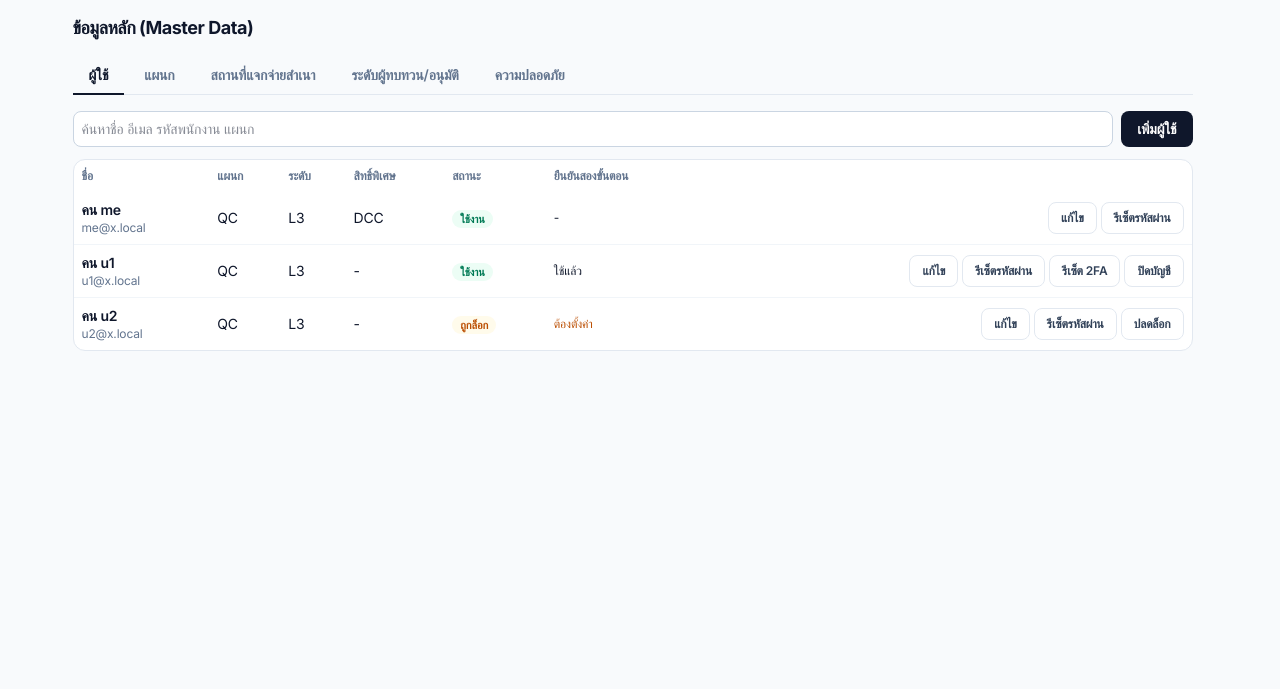
API master data page › creates a user and shows the one-time password
Click the button "เพิ่มผู้ใช้" at coordinates (1157, 129), box x1=1121 y1=111 x2=1192 y2=147
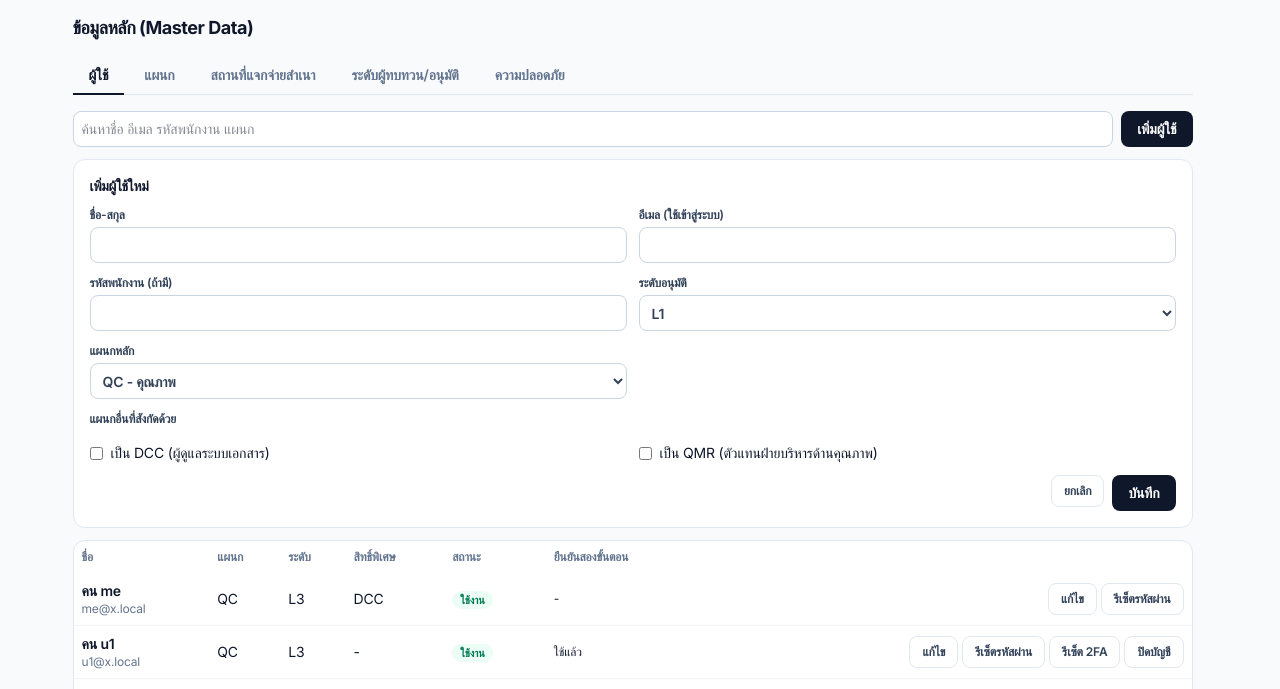
Type "สมศรี" into the field labelled "ชื่อ-สกุล" at coordinates (358, 245), box x1=90 y1=227 x2=626 y2=263
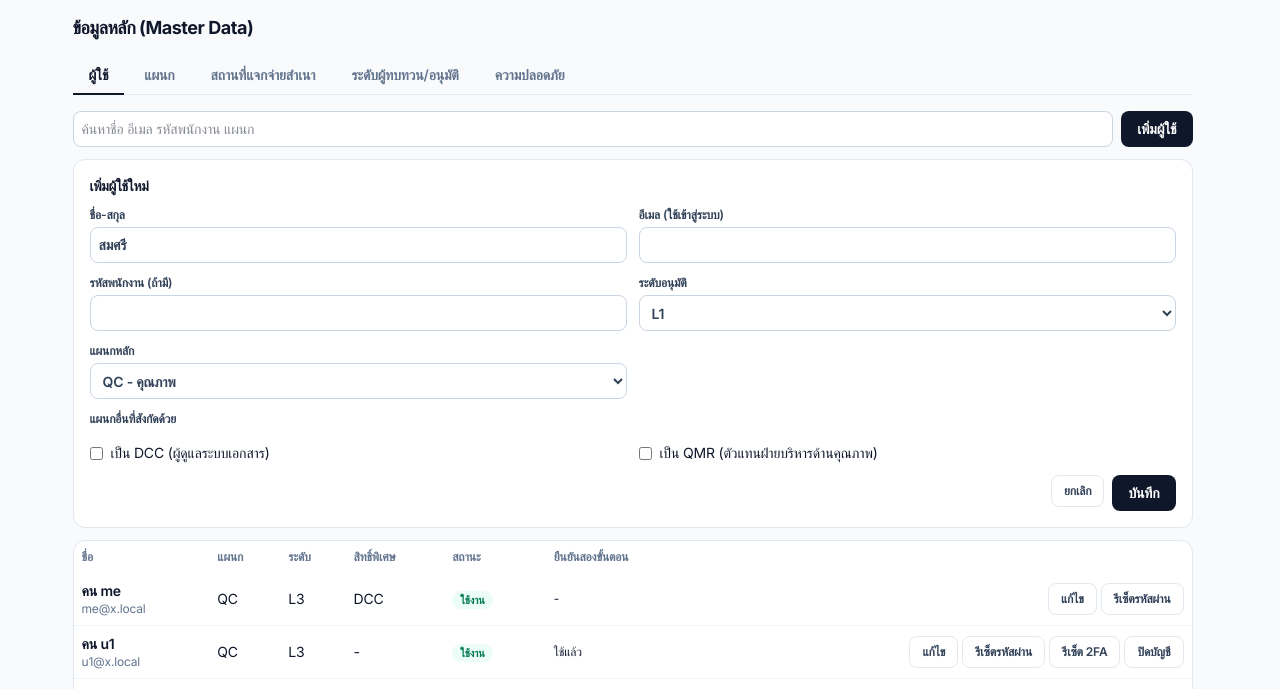
Type " Som@X.local " into the field labelled "อีเมล (ใช้เข้าสู่ระบบ)" at coordinates (907, 245), box x1=638 y1=227 x2=1176 y2=263
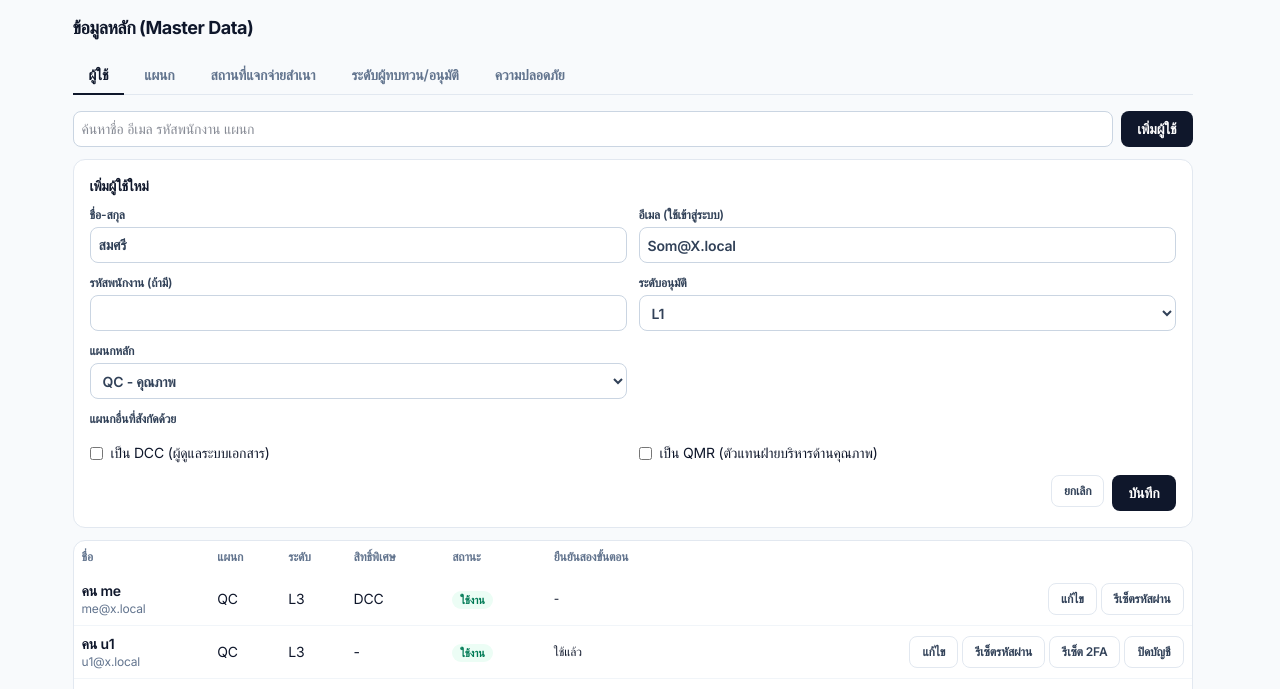
Click the button "บันทึก" at coordinates (1144, 493), box x1=1112 y1=475 x2=1176 y2=511
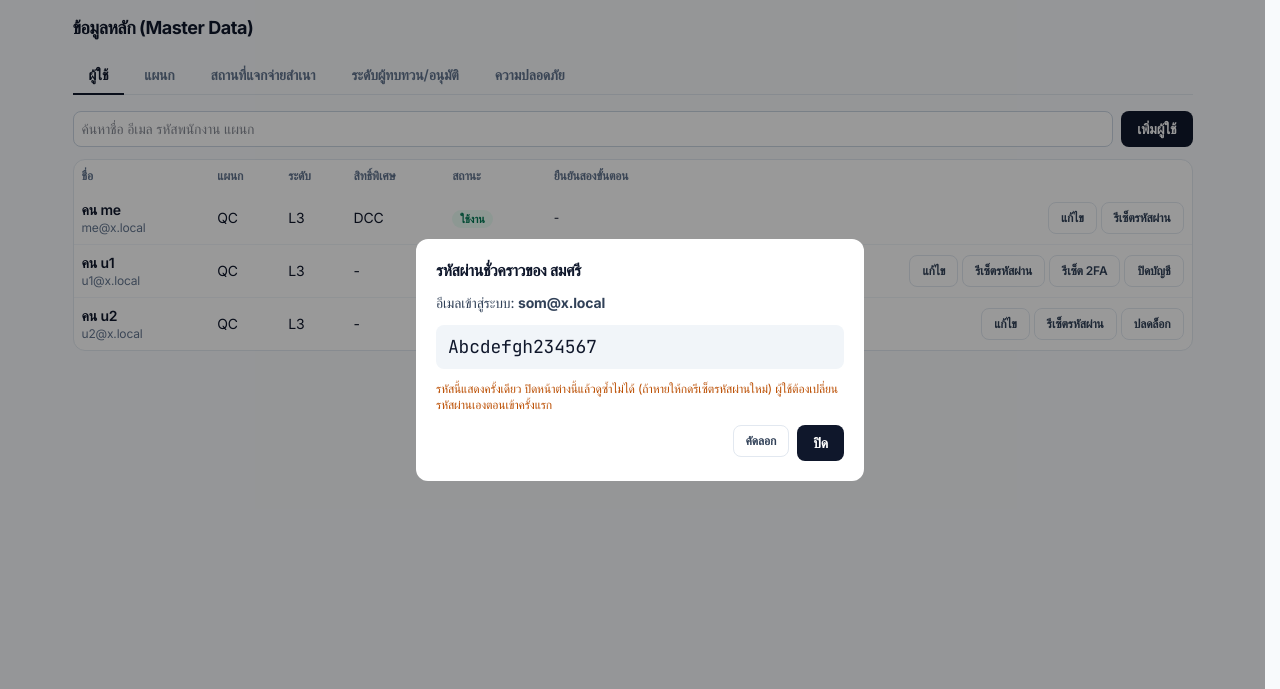
Check: the text "Abcdefgh234567" is shown, box x1=436 y1=325 x2=844 y2=369
Check: the text "แสดงครั้งเดียว" is shown, box x1=436 y1=381 x2=838 y2=412
Click the button "ปิด" at coordinates (821, 443), box x1=797 y1=425 x2=844 y2=461
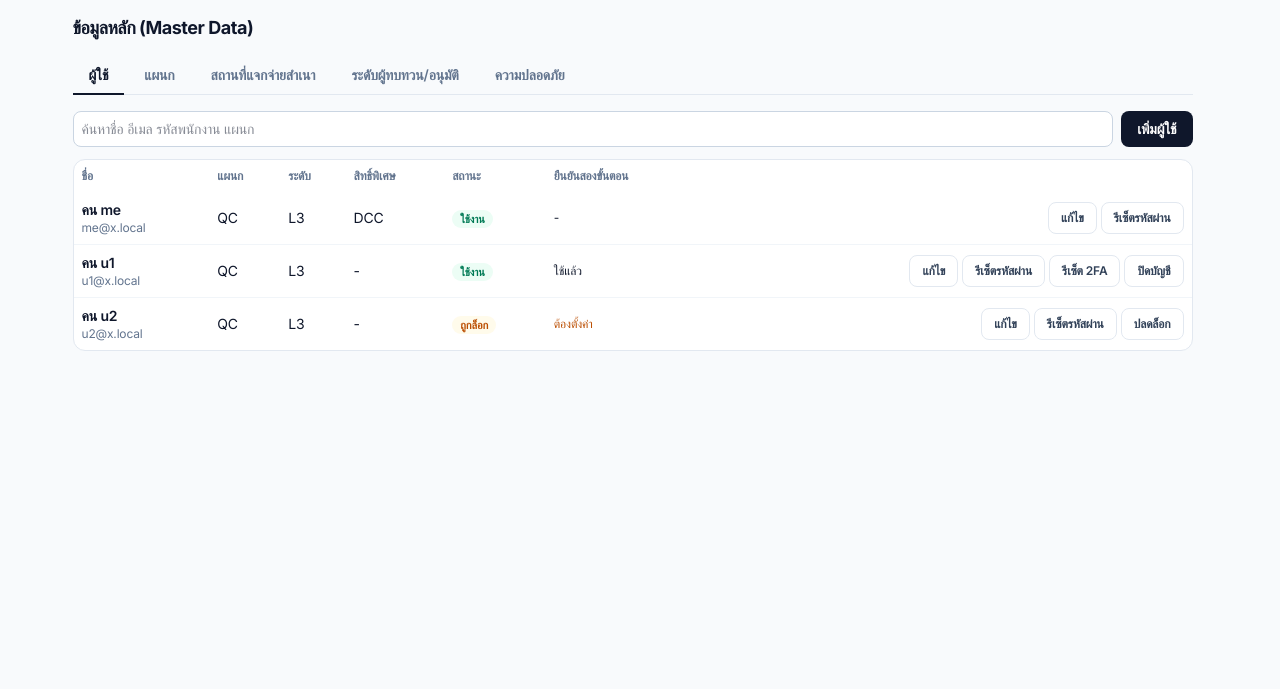
Check: the text "Abcdefgh234567" is gone
